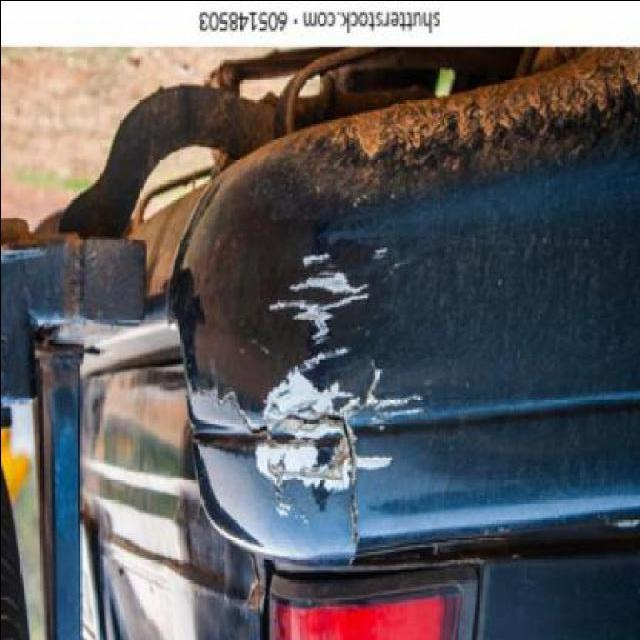rear-bumper-dent: (143, 116, 634, 557)
